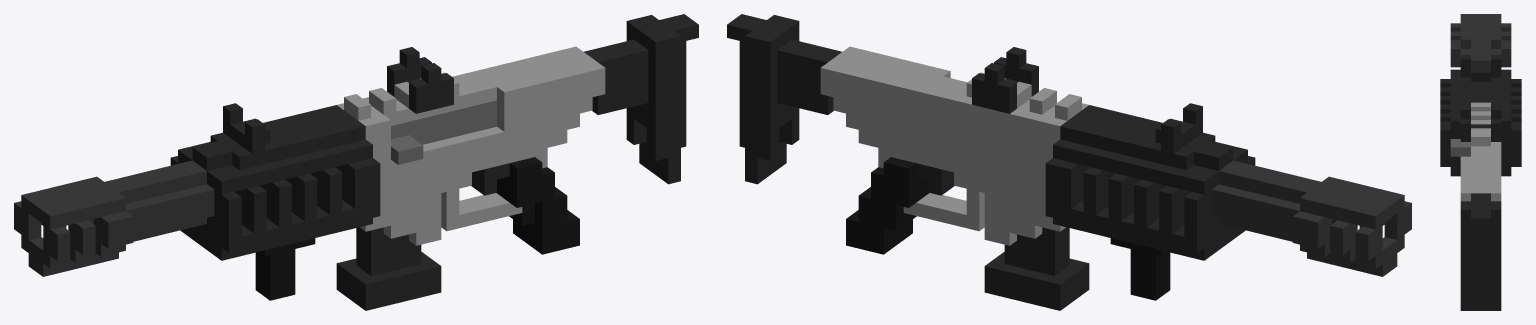
File: K100-Assault Rifle.fbx
The picture shows the model from 3 angles, left to right: view 1: azimuth 30°, elevation 25°; view 2: azimuth 150°, elevation 25°; view 3: azimuth 270°, elevation 25°; orthographic projection. The views are drawn at different scales.
Visible parts, largest first — view 1: Receiver, Rail_Guard, Barrel, Stock, Mag, Handle, Bolt, Red_Dot_Sight, Grip, Iron_Sight, Trigger; view 2: Receiver, Rail_Guard, Barrel, Stock, Mag, Handle, Red_Dot_Sight, Grip, Iron_Sight, Trigger; view 3: Rail_Guard, Stock, Receiver, Barrel, Red_Dot_Sight, Iron_Sight, Bolt.
Boxes of the visible parts, x1,y1,x2,y2 form: Receiver: (337,46,605,245); Rail_Guard: (170,105,380,260); Barrel: (14,160,214,276); Stock: (584,14,698,184); Mag: (336,227,441,310); Handle: (496,157,579,254); Bolt: (391,100,496,164); Red_Dot_Sight: (387,47,453,113); Grip: (255,238,315,300); Iron_Sight: (223,103,270,153); Trigger: (471,163,509,195); Receiver: (820,46,1088,245); Rail_Guard: (1045,105,1255,260); Barrel: (1211,160,1411,276); Stock: (727,14,841,184); Mag: (984,227,1089,310); Handle: (846,157,929,254); Red_Dot_Sight: (972,47,1038,113); Grip: (1110,238,1170,300); Iron_Sight: (1155,103,1202,153); Trigger: (916,163,954,195); Rail_Guard: (1440,60,1521,176); Stock: (1460,193,1501,310); Receiver: (1460,102,1501,201); Barrel: (1450,14,1511,67); Red_Dot_Sight: (1460,105,1501,141); Iron_Sight: (1460,55,1501,81); Bolt: (1450,139,1470,156).
Bounding box in the file's own units: 52 × 17 × 8.
Materials: 1 (1 with a texture image).
